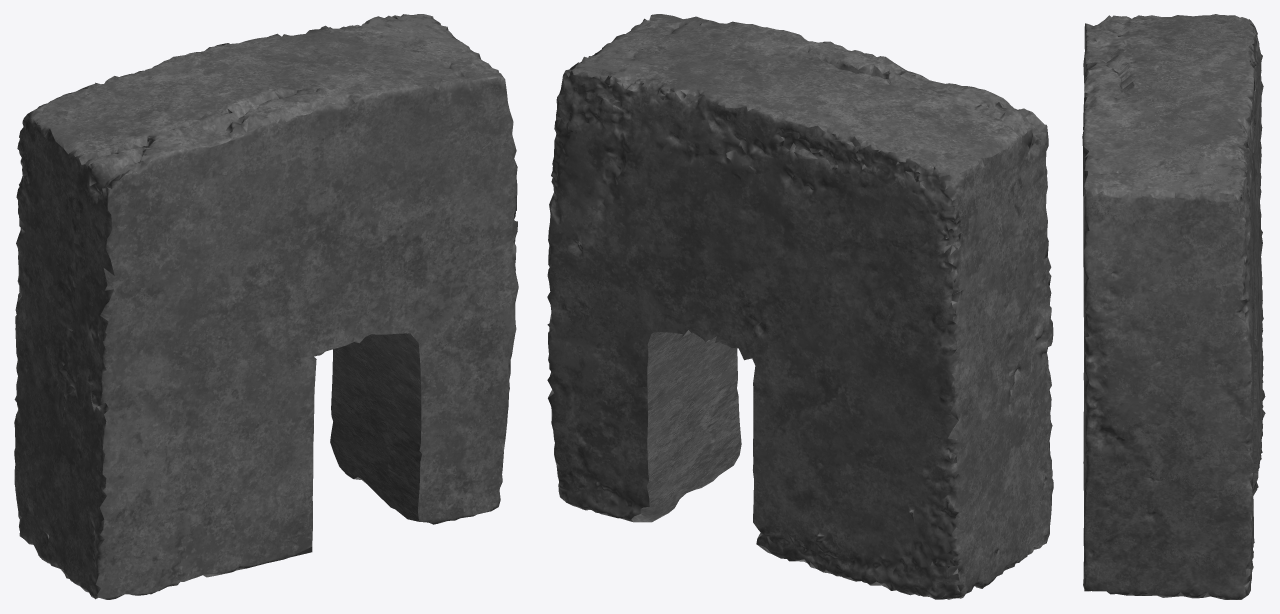
Rendered from concrete_slab.fbx.
3 renders of one model, left to right at view 1: azimuth 30°, elevation 25°; view 2: azimuth 150°, elevation 25°; view 3: azimuth 270°, elevation 25°, orthographic. The views are drawn at different scales.
Parts seen in each view (by area): view 1: concreteblock; view 2: concreteblock; view 3: concreteblock.
Boxes of the visible parts, <box> form: concreteblock: <box>14,14,518,599</box>; concreteblock: <box>547,14,1053,599</box>; concreteblock: <box>1082,14,1265,599</box>.
Bounding box in the file's own units: 3.88 × 1.54 × 3.97.
1 material, 1 textured.
